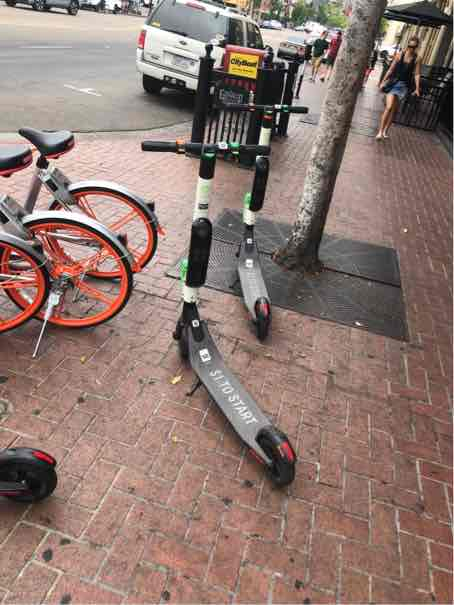scooter: (134, 132, 305, 496)
